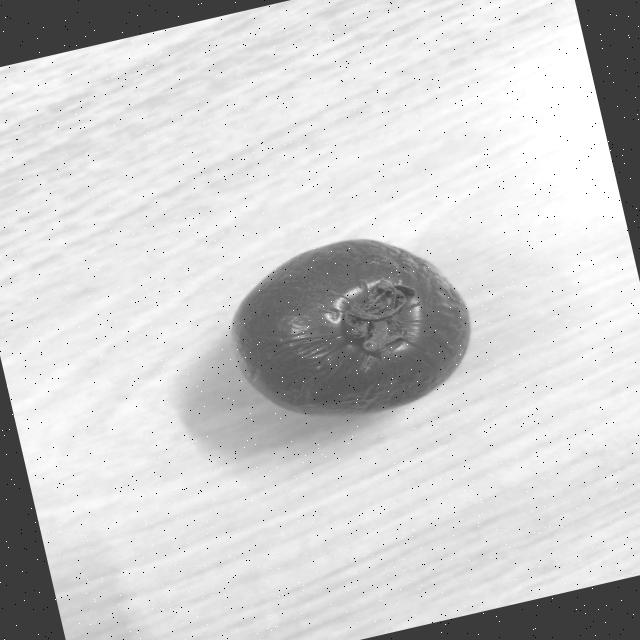Tomato: (212, 215, 488, 444)
